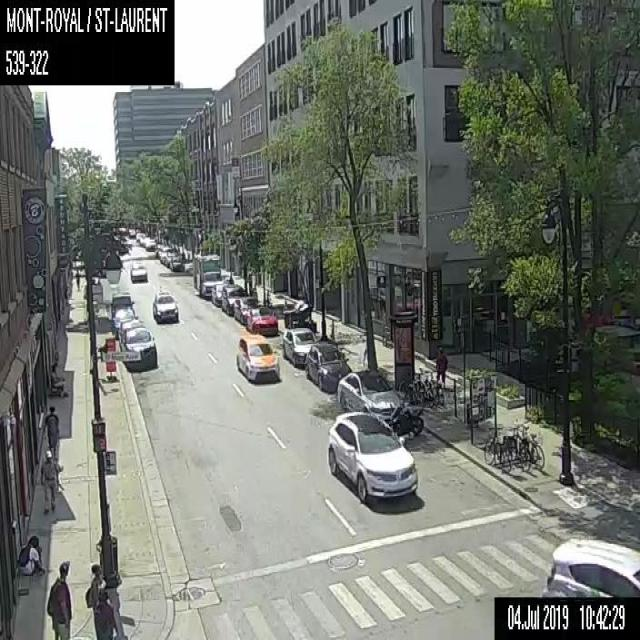construction: (104, 335, 116, 381)
pedestrian: (84, 558, 112, 638), (45, 557, 70, 639), (16, 532, 44, 577), (39, 447, 58, 512), (41, 402, 61, 460), (49, 356, 66, 397), (434, 343, 446, 388), (74, 268, 79, 285)
vehicle: (324, 407, 421, 503), (541, 535, 639, 596), (336, 368, 398, 419), (231, 332, 279, 384), (302, 342, 348, 393), (121, 326, 158, 371), (191, 255, 228, 298), (389, 402, 428, 442), (282, 328, 322, 366), (243, 306, 280, 333), (150, 289, 178, 323), (221, 284, 244, 315), (112, 304, 136, 329), (128, 258, 147, 282), (168, 256, 182, 271)
